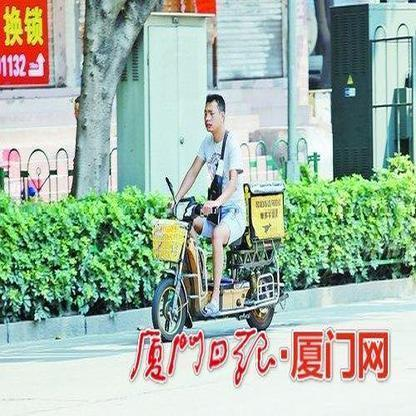target: (151, 92, 288, 332)
